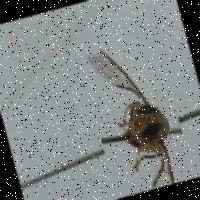Oriental-fruit-fly: (75, 22, 194, 199)
